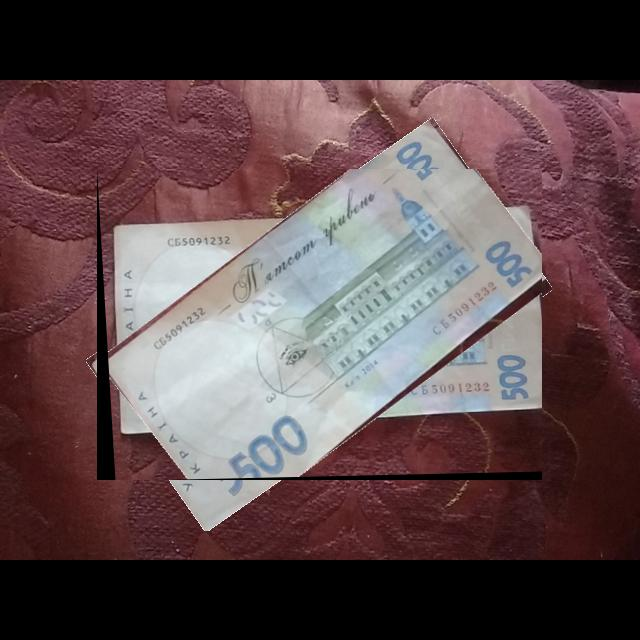500uah: (97, 169, 543, 481)
